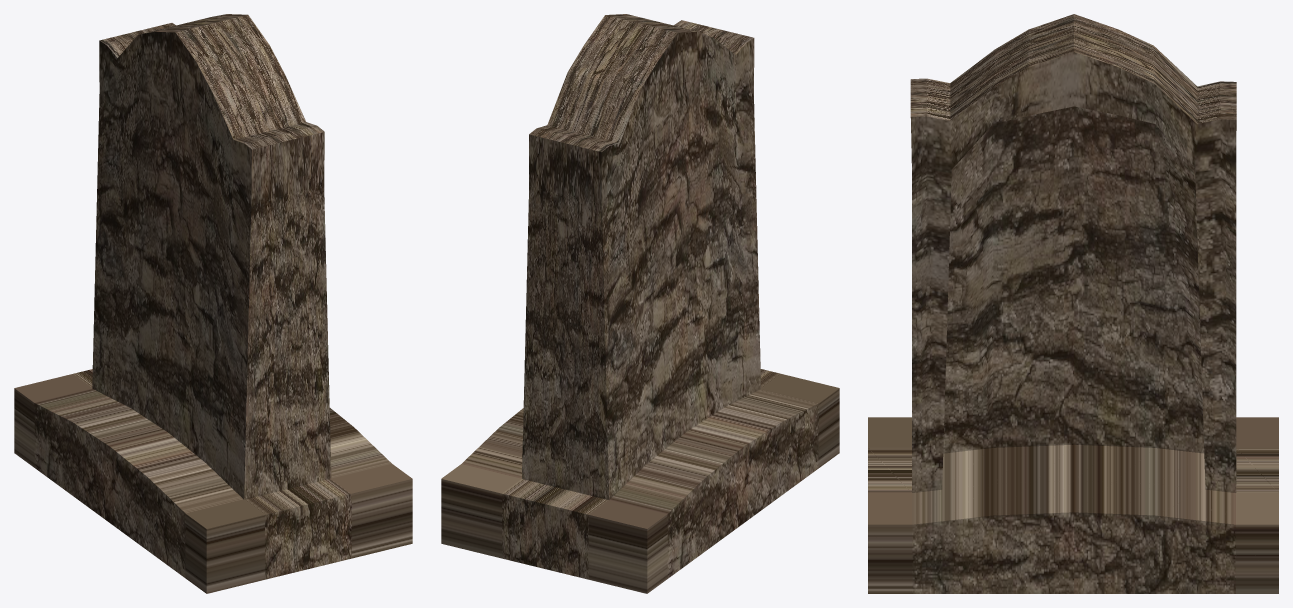
The model's file is trythisonunity3.fbx.
3 renders of one model, left to right at view 1: azimuth 30°, elevation 25°; view 2: azimuth 150°, elevation 25°; view 3: azimuth 270°, elevation 25°, orthographic. The views are drawn at different scales.
Parts seen in each view (by area): view 1: Cube; view 2: Cube; view 3: Cube.
Part boxes in pixels (<box>): Cube: <box>14,14,412,593</box>; Cube: <box>441,14,839,593</box>; Cube: <box>868,14,1278,593</box>.
Bounding box in the file's own units: 312 × 688 × 506.
Materials: 1 (1 with a texture image).
